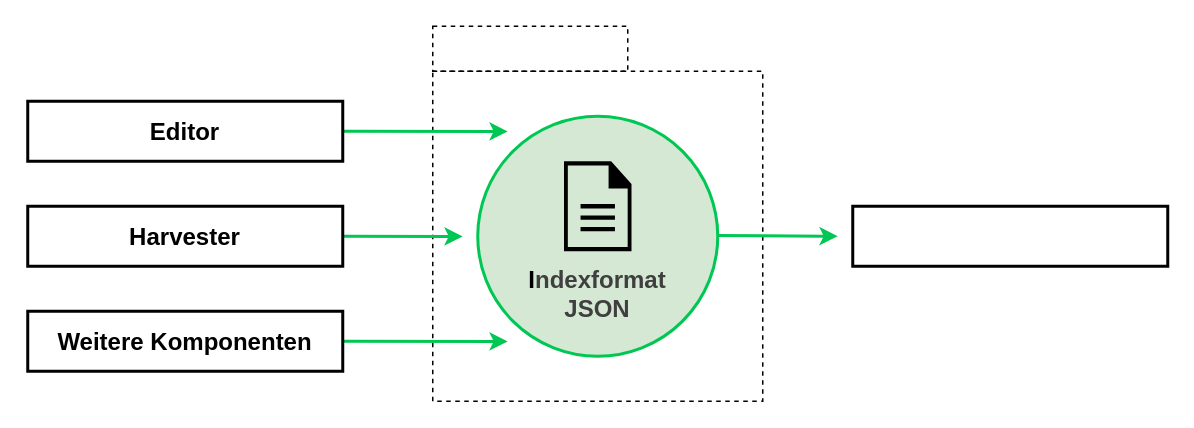
The diagram is 1194 pixels wide and 428 high, and some of its shapes have lost their labels. Each missing label, with the centre of its shape:
Elasticsearch: [529,48]
Portal: [1009,235]
